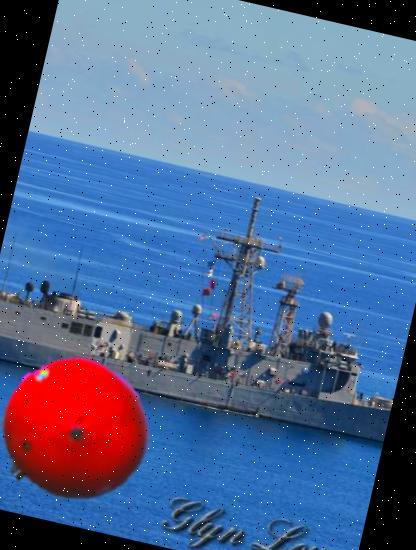Kaki: (0, 343, 161, 520)
